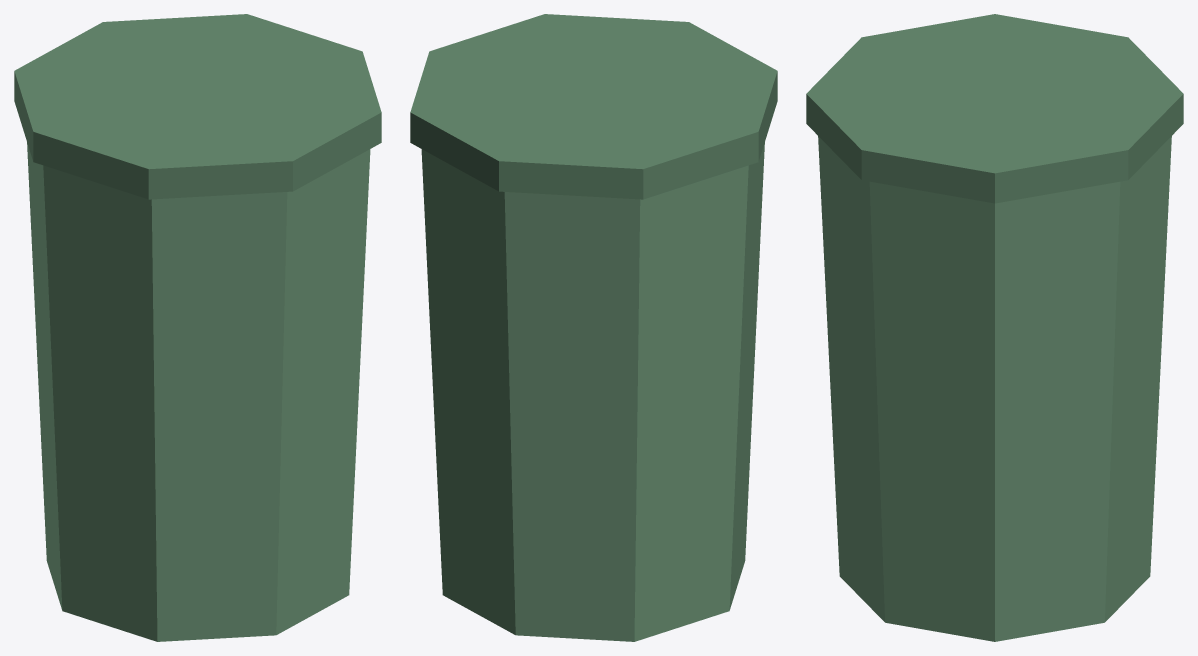
File: trash_bin.glb
3 views of the same model, side by side, from view 1: azimuth 30°, elevation 25°; view 2: azimuth 150°, elevation 25°; view 3: azimuth 270°, elevation 25° (orthographic).
Visible parts, largest first — view 1: TrashBin; view 2: TrashBin; view 3: TrashBin.
Boxes of the visible parts, box(x1,y1,x2,y2) form: TrashBin: box(14, 14, 381, 641); TrashBin: box(410, 14, 777, 641); TrashBin: box(806, 14, 1183, 641).
Bounding box in the file's own units: 0.68 × 0.96 × 0.68.
